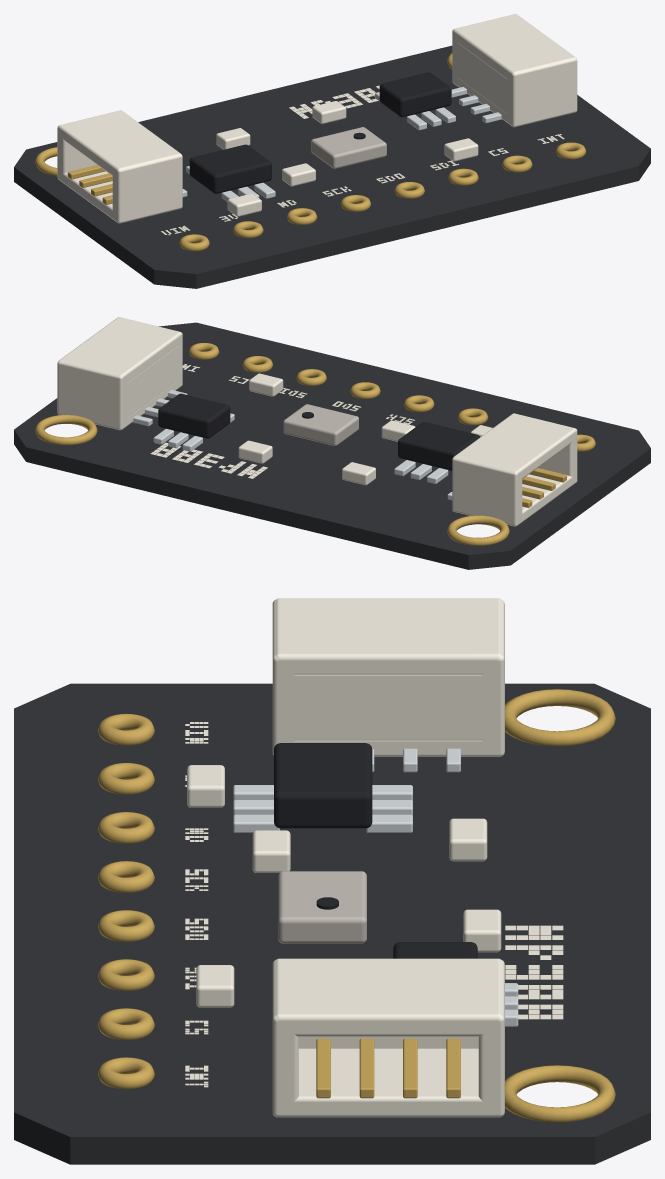
Rendered from sensors-03.glb.
The picture shows the model from 3 angles, top to bottom: view 1: azimuth 30°, elevation 25°; view 2: azimuth 150°, elevation 25°; view 3: azimuth 270°, elevation 25°; orthographic projection. The views are drawn at different scales.
Parts seen in each view (by area): view 1: pcb, right-socket, left-socket, pads, chip, mounts; view 2: pcb, right-socket, left-socket, pads, mounts, chip; view 3: pcb, right-socket, left-socket, pads, mounts, chip.
Part boxes in pixels (x1,y1,x2,y2): pcb: (14, 45, 650, 288); right-socket: (451, 14, 577, 127); left-socket: (57, 110, 187, 223); pads: (179, 142, 586, 251); chip: (311, 127, 386, 168); mounts: (35, 53, 452, 176); pcb: (14, 322, 650, 569); right-socket: (57, 317, 187, 430); left-socket: (447, 413, 577, 526); pads: (189, 342, 595, 451); mounts: (35, 415, 509, 545); chip: (283, 404, 358, 445); pcb: (14, 683, 650, 1164); right-socket: (272, 958, 504, 1117); left-socket: (272, 598, 504, 772); pads: (98, 713, 154, 1089); mounts: (505, 689, 615, 1122); chip: (278, 871, 366, 943).
Bounding box in the file's own units: 2.29 × 0.3105 × 1.36.
